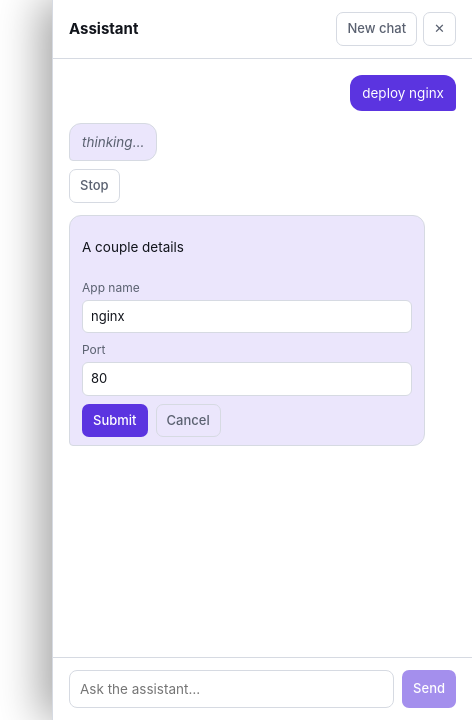
Test: ChatPanel (component) › renders the structured-input form mid-turn and submits typed answers
The image size is (472, 720).
Check: the text "A couple details" is shown, box left=82, top=239, right=184, bottom=255
Check: the text "App name" is shown, box left=82, top=280, right=140, bottom=295
# Submit with the prefilled defaults → answers POST to /chat/answer, typed.
What coordinates should you click on to do the following:
click the button "Submit"
I would click on:
 (115, 421)
Its box is left=82, top=404, right=148, bottom=437.
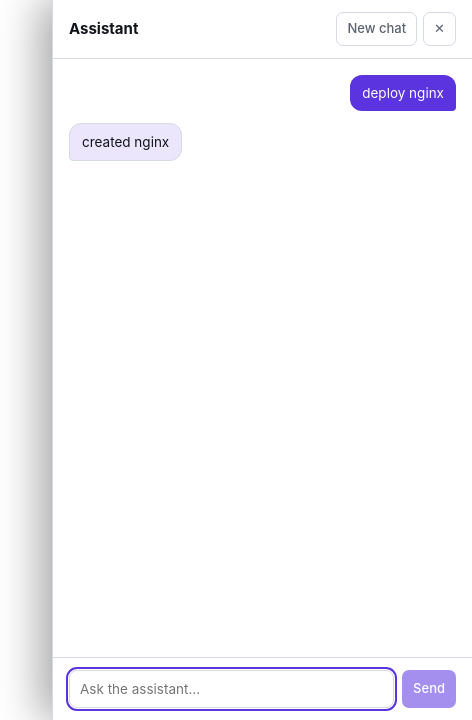
Check: the text "created nginx" is shown, box left=69, top=123, right=182, bottom=161
